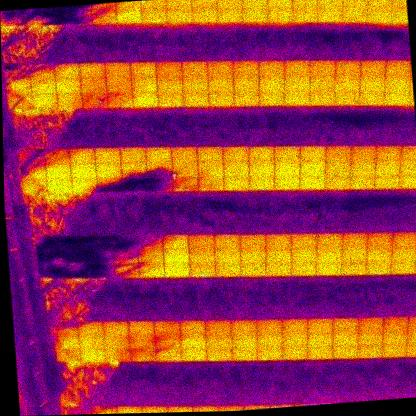Hotspot: (234, 88, 260, 107), (364, 258, 392, 275), (158, 90, 184, 108), (141, 5, 167, 23), (189, 259, 215, 277), (198, 174, 225, 191), (171, 161, 199, 177), (349, 174, 377, 190), (173, 175, 199, 192), (324, 174, 351, 190), (206, 346, 233, 362), (356, 342, 383, 358), (256, 345, 282, 361), (55, 347, 81, 361), (54, 335, 80, 348)
Normal: (191, 4, 218, 24), (267, 4, 295, 23), (374, 144, 403, 162), (216, 4, 242, 24), (384, 88, 411, 107), (166, 5, 193, 24), (241, 4, 268, 23), (292, 4, 319, 23), (283, 89, 311, 107), (298, 173, 326, 191), (132, 90, 158, 109), (366, 4, 392, 23), (246, 145, 275, 162), (272, 146, 301, 163), (298, 144, 327, 161), (207, 73, 234, 91), (284, 73, 311, 91), (359, 72, 386, 90), (334, 88, 361, 106), (359, 88, 386, 106), (115, 5, 142, 23), (188, 232, 215, 250), (323, 160, 353, 176), (68, 147, 96, 164), (119, 146, 147, 163), (144, 146, 172, 163), (324, 145, 352, 162), (373, 173, 401, 190), (129, 61, 157, 78), (343, 4, 368, 23), (259, 73, 285, 91), (334, 73, 360, 91), (208, 89, 234, 107), (258, 88, 284, 106), (197, 146, 223, 164), (273, 161, 302, 177), (348, 160, 377, 176), (156, 75, 183, 92), (181, 74, 208, 91), (233, 74, 260, 91), (56, 91, 83, 108), (309, 73, 336, 90), (222, 146, 249, 163), (70, 162, 97, 179), (46, 176, 73, 193), (224, 175, 251, 192), (248, 174, 275, 191), (315, 232, 342, 249), (340, 231, 367, 248), (317, 5, 344, 22), (214, 261, 241, 278), (340, 259, 367, 276), (231, 345, 258, 362), (381, 341, 408, 358), (155, 60, 182, 77), (181, 59, 208, 76), (80, 76, 107, 93), (170, 146, 198, 162), (299, 159, 327, 175), (373, 160, 401, 176), (273, 175, 301, 191), (239, 261, 267, 277), (102, 320, 130, 336), (331, 343, 359, 359), (206, 59, 234, 75), (385, 59, 411, 76), (183, 90, 209, 107), (309, 89, 335, 106), (95, 162, 121, 179), (366, 231, 392, 248), (189, 246, 215, 263), (341, 245, 367, 262), (290, 260, 316, 277), (390, 257, 416, 274), (78, 320, 104, 337), (358, 316, 384, 333), (282, 332, 308, 349), (45, 163, 72, 179), (349, 146, 376, 162), (223, 161, 250, 177), (248, 161, 275, 177), (213, 233, 240, 249), (290, 232, 317, 248), (163, 247, 190, 263), (265, 246, 292, 262), (128, 319, 155, 335), (179, 319, 206, 335), (230, 319, 257, 335), (281, 318, 308, 334), (103, 334, 130, 350), (332, 317, 359, 333), (80, 346, 107, 362), (281, 345, 308, 361), (258, 59, 285, 75), (391, 230, 416, 247), (130, 77, 158, 92), (264, 261, 292, 276), (308, 59, 336, 74), (106, 76, 132, 92), (360, 59, 386, 75), (384, 74, 410, 90), (94, 148, 120, 164), (197, 160, 223, 176), (213, 247, 239, 263), (240, 246, 266, 262), (366, 245, 392, 261), (315, 260, 341, 276), (256, 318, 282, 334), (79, 334, 105, 350), (307, 317, 333, 333), (382, 316, 408, 332), (256, 332, 282, 348), (307, 331, 333, 347), (181, 346, 207, 362), (79, 61, 105, 77), (232, 59, 258, 75), (334, 60, 361, 75), (239, 233, 266, 248), (265, 233, 292, 248), (205, 320, 232, 335), (332, 331, 359, 346), (283, 59, 310, 74), (55, 77, 82, 92), (164, 262, 190, 277), (180, 334, 206, 349), (205, 333, 231, 348), (230, 333, 256, 348), (357, 330, 383, 345), (382, 329, 408, 344), (307, 345, 333, 360), (54, 64, 80, 79), (104, 62, 130, 77), (315, 248, 342, 262), (391, 245, 416, 260), (290, 248, 316, 262), (115, 402, 142, 414), (241, 0, 268, 7), (316, 0, 344, 6), (405, 342, 416, 357), (366, 0, 393, 6), (215, 0, 242, 6), (292, 0, 318, 6), (342, 0, 367, 6), (407, 315, 416, 331), (266, 0, 293, 5), (407, 329, 416, 343)
Shadow: (32, 91, 58, 110), (66, 7, 92, 26), (145, 161, 173, 178), (146, 176, 174, 193), (82, 91, 108, 109), (107, 91, 133, 109), (91, 6, 117, 24), (4, 64, 30, 82), (15, 9, 42, 26), (120, 161, 147, 178), (35, 235, 62, 252), (36, 250, 63, 267), (30, 77, 57, 94), (85, 234, 113, 250), (22, 180, 48, 197), (60, 234, 86, 251), (113, 247, 139, 264), (114, 262, 140, 279), (139, 262, 165, 279), (43, 149, 70, 165), (70, 176, 97, 192), (111, 233, 138, 249), (162, 233, 189, 249), (154, 333, 181, 349), (130, 346, 157, 362), (138, 233, 163, 250), (6, 94, 32, 110), (41, 9, 67, 25), (19, 151, 45, 167), (20, 165, 46, 181), (138, 248, 164, 264), (129, 333, 155, 349), (6, 79, 32, 95), (87, 249, 114, 264), (62, 263, 89, 278), (88, 263, 115, 278), (155, 347, 182, 362), (96, 177, 122, 192), (122, 177, 148, 192), (62, 249, 88, 264), (154, 319, 180, 334), (29, 63, 55, 78), (53, 323, 79, 337), (37, 264, 64, 277), (105, 348, 132, 361), (0, 10, 17, 25), (90, 405, 117, 414), (65, 406, 91, 415)
